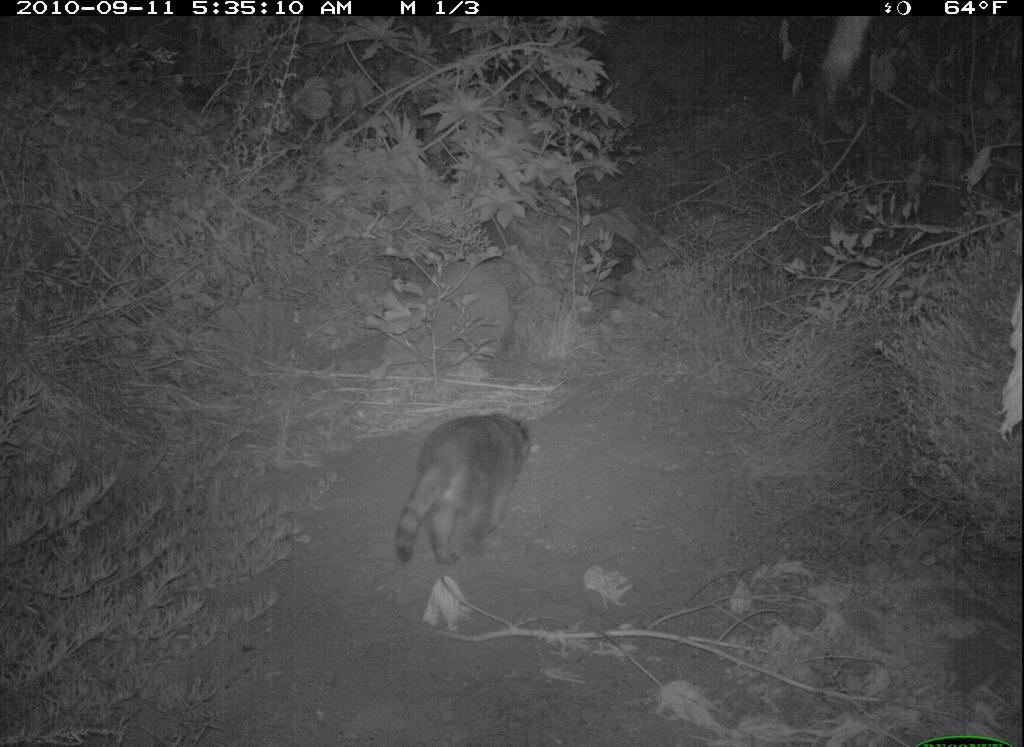raccoon: (385, 401, 546, 591)
